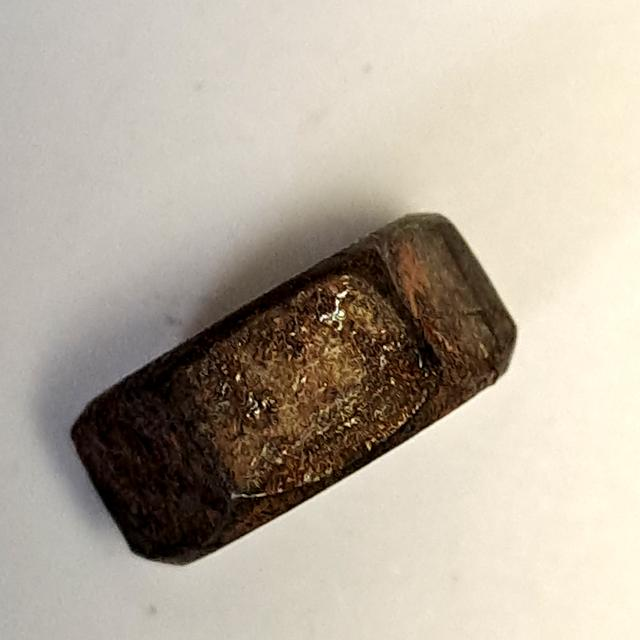Side_Rust: (53, 194, 533, 582)
